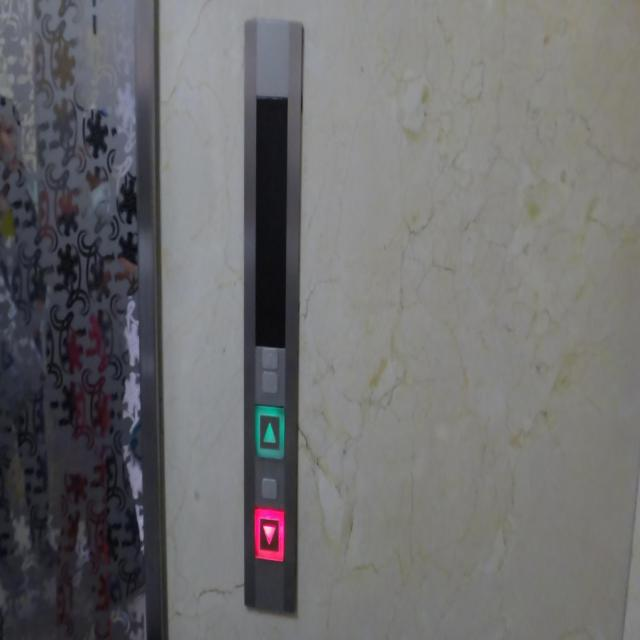down: (253, 502, 286, 566)
led: (253, 86, 289, 353)
up: (251, 397, 287, 464)
